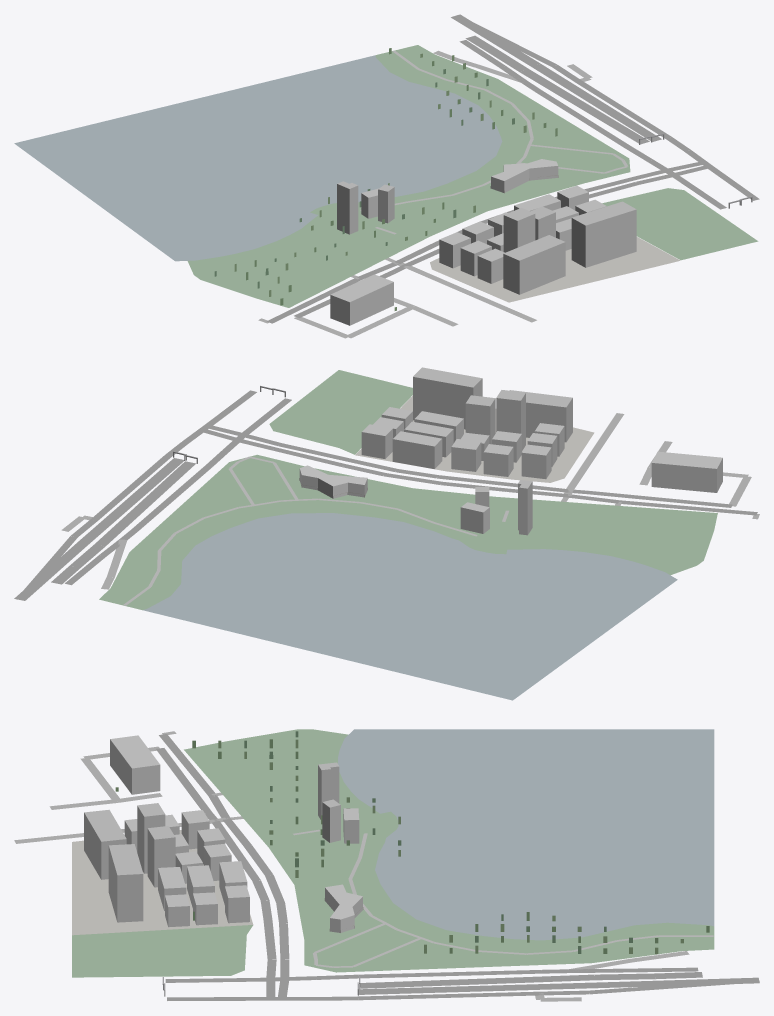
The picture shows the model from 3 angles, top to bottom: view 1: azimuth 30°, elevation 25°; view 2: azimuth 150°, elevation 25°; view 3: azimuth 270°, elevation 25°; orthographic projection. The views are drawn at different scales.
Bounding box in the file's own units: 503 × 50.29 × 581.
